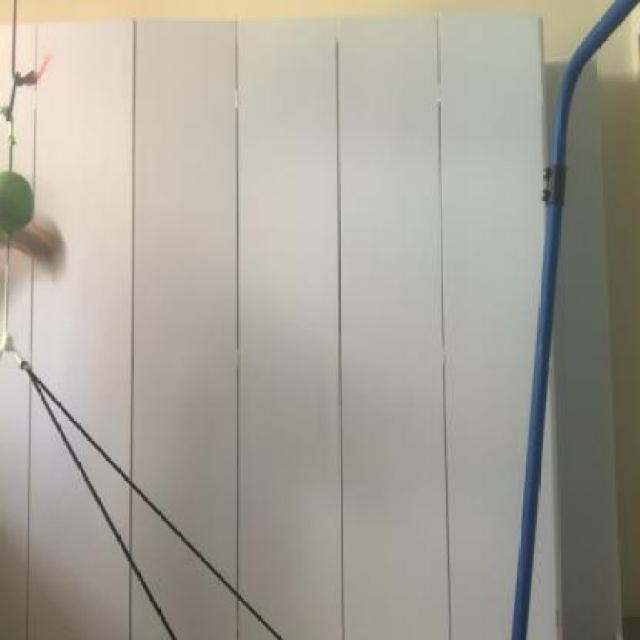baseball: (0, 166, 37, 245)
